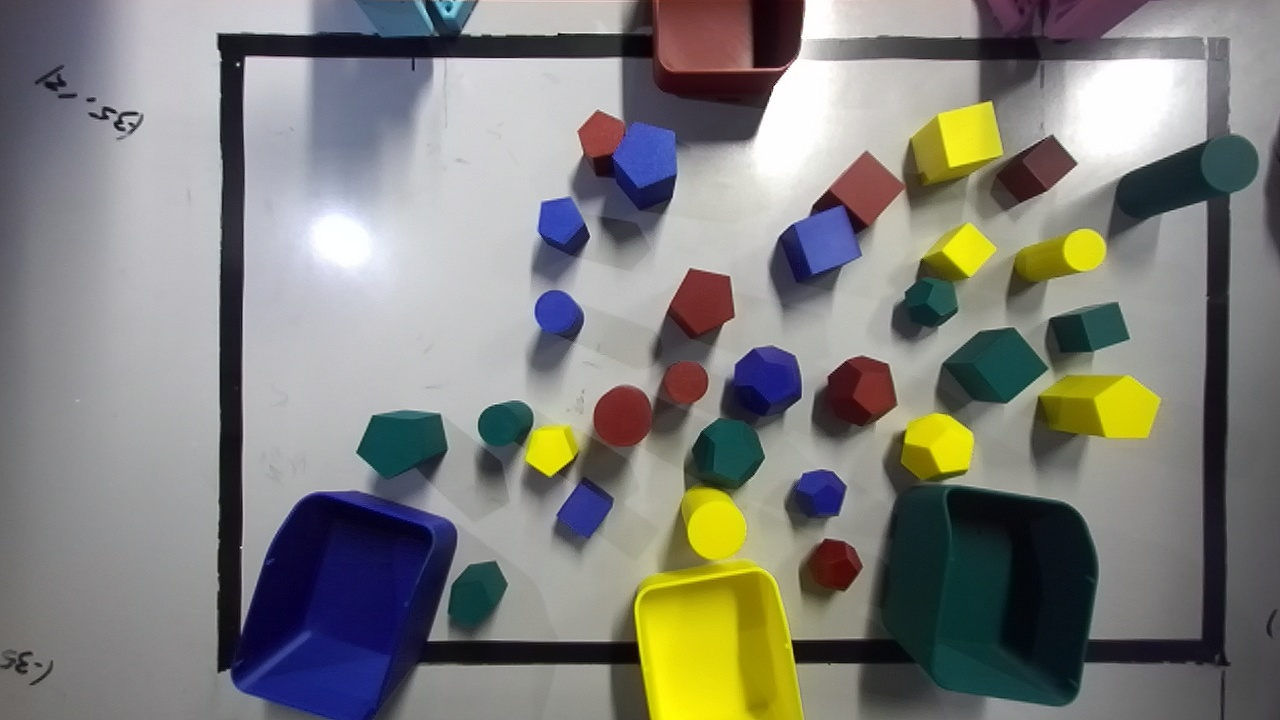bin: (231, 491, 456, 719), (882, 485, 1098, 704), (634, 560, 802, 719), (652, 0, 803, 99)
cube: (942, 327, 1048, 402), (911, 101, 1002, 183), (811, 151, 904, 229), (779, 205, 861, 282), (996, 135, 1076, 202), (917, 223, 996, 280), (1049, 302, 1129, 351), (556, 478, 612, 537)
cylinder: (1115, 135, 1257, 219), (1014, 229, 1105, 282), (681, 487, 746, 559), (593, 385, 651, 446), (477, 400, 532, 446), (534, 290, 583, 339), (661, 361, 708, 404)
dodecahedron: (685, 419, 764, 488), (827, 356, 896, 425), (901, 413, 973, 479), (733, 346, 801, 415), (807, 538, 862, 590), (904, 277, 957, 326), (791, 469, 846, 516)
hexagonal: (1038, 375, 1159, 437), (356, 410, 447, 477), (612, 122, 676, 209), (667, 268, 734, 338), (448, 561, 507, 627), (577, 110, 625, 176), (537, 197, 589, 254), (524, 425, 577, 476)
